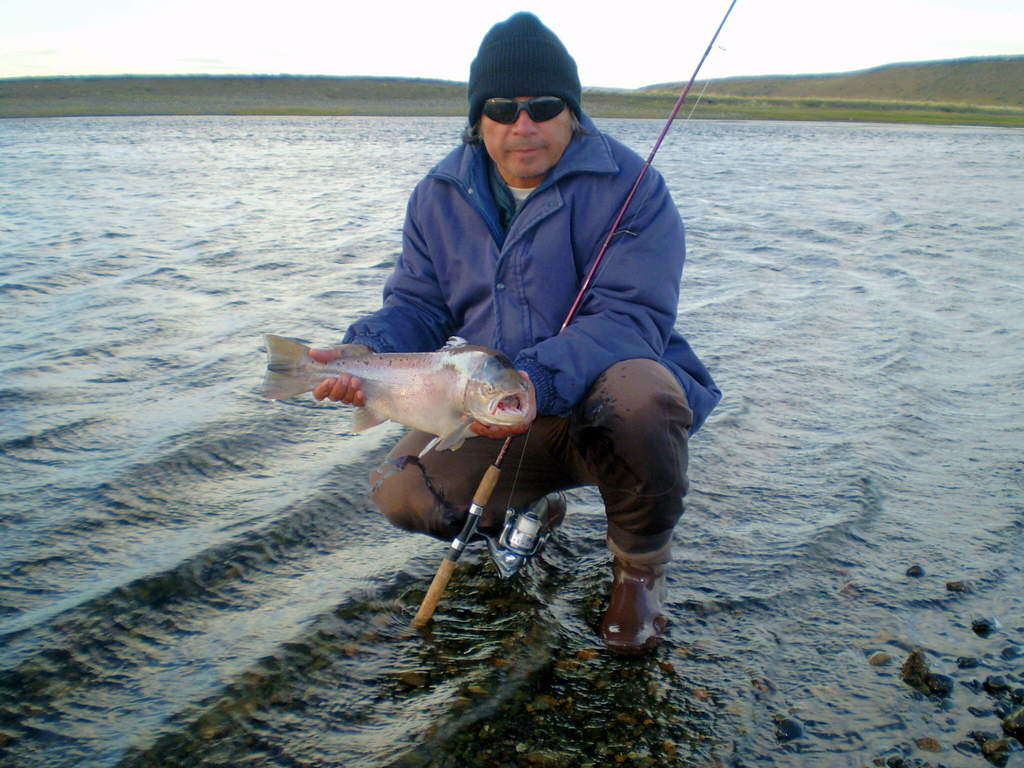Person: (307, 9, 722, 652)
